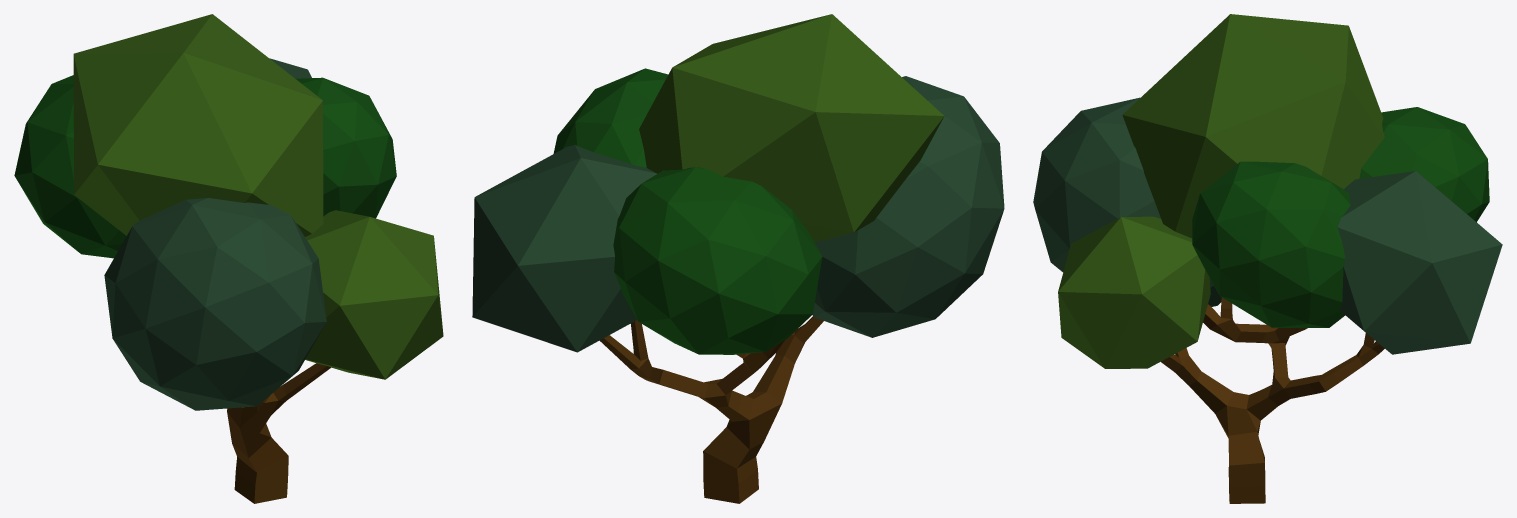
The model's file is tree5_cityedit-ChteU5yw.glb.
3 renders of one model, left to right at view 1: azimuth 30°, elevation 25°; view 2: azimuth 150°, elevation 25°; view 3: azimuth 270°, elevation 25°, orthographic. The views are drawn at different scales.
Parts seen in each view (by area): view 1: Icosphere.002, Icosphere.004, Icosphere.003, Icosphere.005, Icosphere.001, Cube; view 2: Icosphere.002, Icosphere.005, Icosphere.004, Icosphere, Cube, Icosphere.001; view 3: Icosphere.002, Icosphere, Icosphere.001, Icosphere.003, Icosphere.004, Cube, Icosphere.005.
Boxes of the visible parts, x1,y1,x2,y2 form: Icosphere.002: (73,14,323,236); Icosphere.004: (104,198,326,410); Icosphere.003: (305,210,443,379); Icosphere.005: (14,75,126,258); Icosphere.001: (295,77,396,218); Cube: (227,363,331,503); Icosphere.002: (639,14,944,242); Icosphere.005: (613,167,822,354); Icosphere.004: (812,76,1004,337); Icosphere: (472,145,656,352); Cube: (599,316,823,503); Icosphere.001: (553,68,668,167); Icosphere.002: (1122,14,1384,238); Icosphere: (1337,171,1502,354); Icosphere.001: (1192,161,1350,327); Icosphere.003: (1058,216,1210,368); Icosphere.004: (1033,97,1221,306); Cube: (1161,297,1384,503); Icosphere.005: (1359,107,1489,222).
Size of the model in its own units: 8.46 by 11.26 by 10.82.
